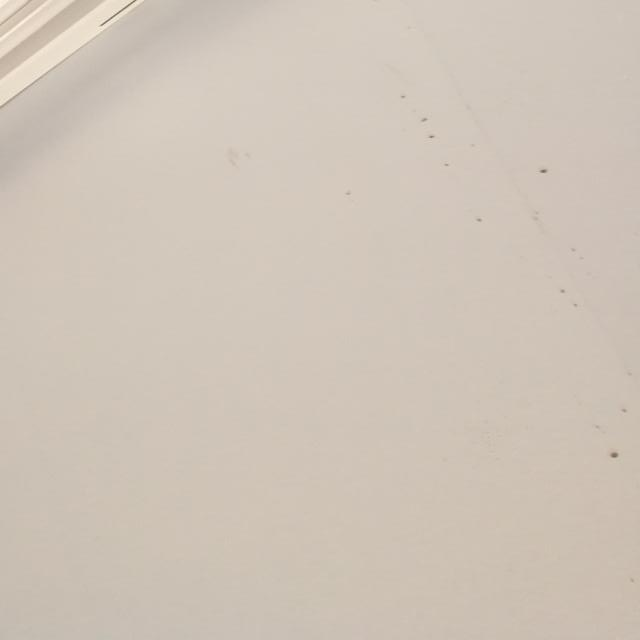fluorescent tube: (0, 0, 331, 361)
